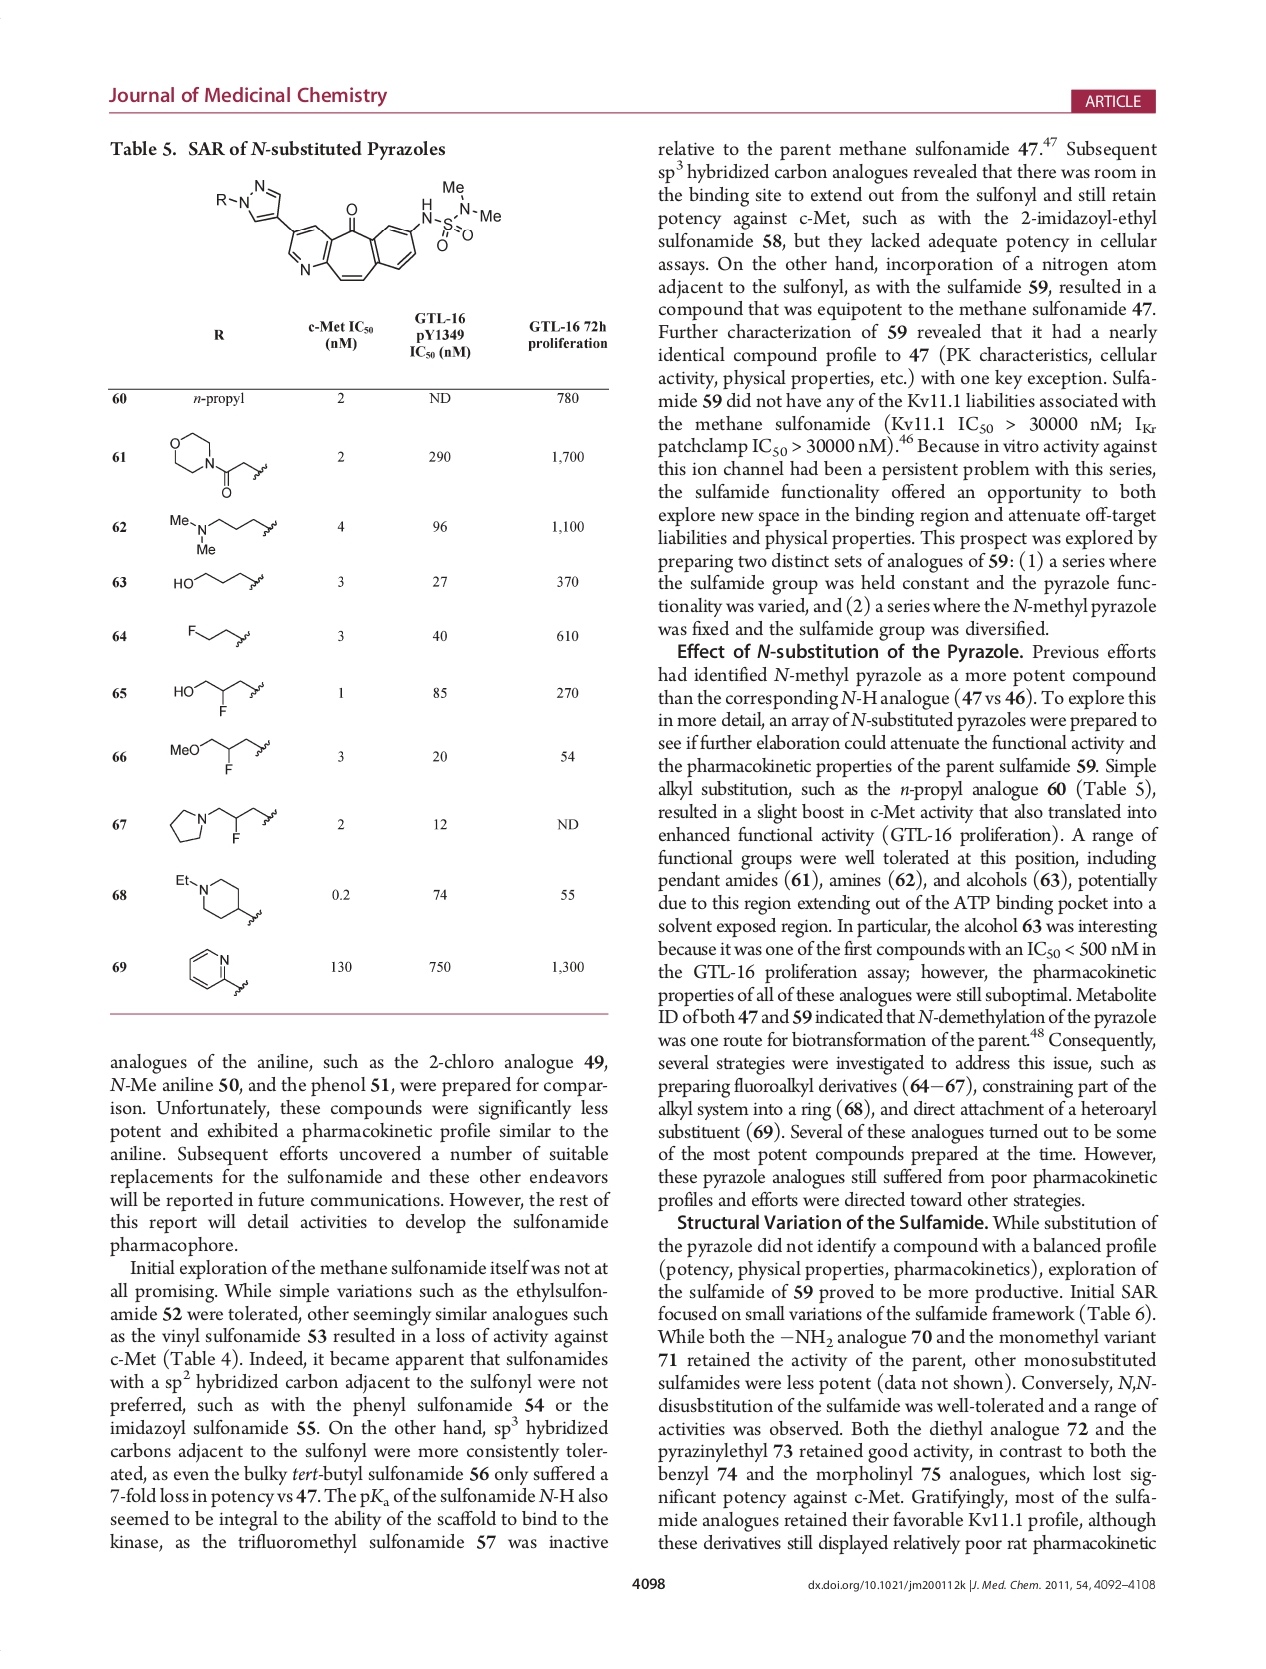exist_molecular: (207, 170, 504, 293), (168, 424, 269, 501), (158, 509, 285, 559), (168, 801, 281, 850), (170, 870, 265, 928), (176, 943, 261, 1001), (168, 734, 273, 778), (169, 673, 265, 721), (168, 563, 267, 601), (178, 616, 253, 657)
